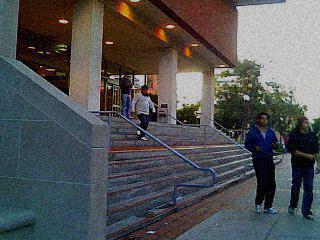Escaleras: (97, 140, 276, 213), (80, 107, 242, 144)
